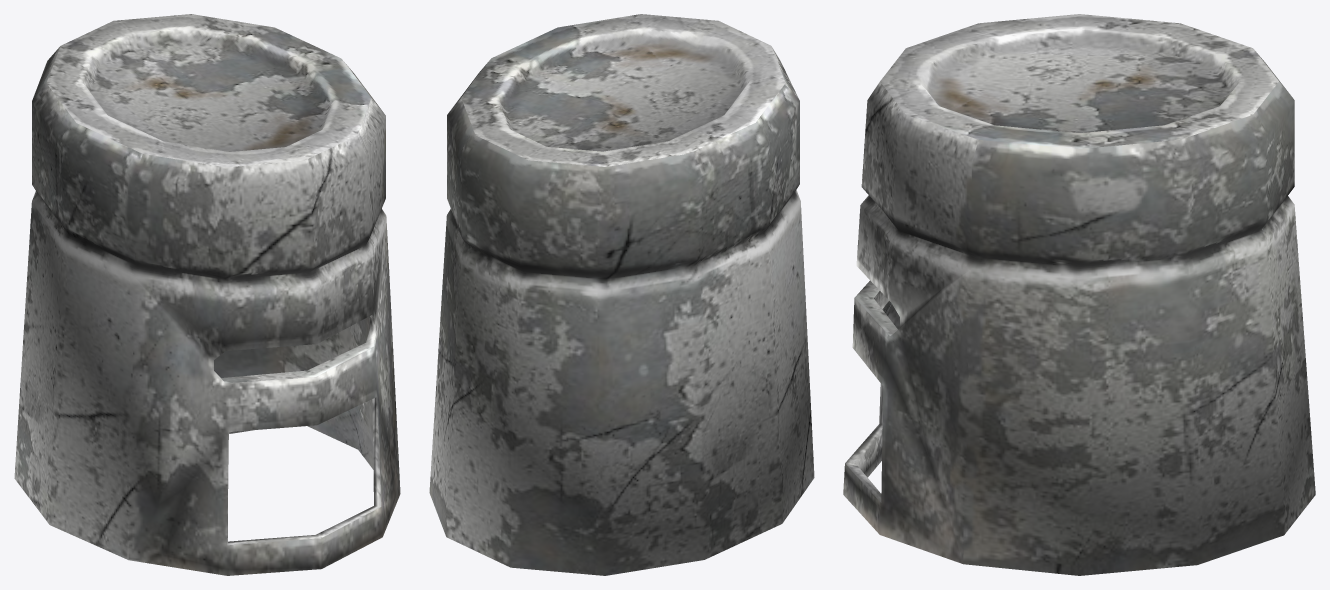
Rendered from great_helm_bucket.glb.
The picture shows the model from 3 angles, left to right: view 1: azimuth 30°, elevation 25°; view 2: azimuth 150°, elevation 25°; view 3: azimuth 270°, elevation 25°; orthographic projection. The views are drawn at different scales.
Parts seen in each view (by area): view 1: Bucket Helmet; view 2: Bucket Helmet; view 3: Bucket Helmet.
Part boxes in pixels (x1,y1,x2,y2): Bucket Helmet: (14,14,400,575); Bucket Helmet: (429,14,814,575); Bucket Helmet: (843,14,1315,575).
Bounding box in the file's own units: 0.26 × 0.3087 × 0.3198.
1 material, 1 textured.
